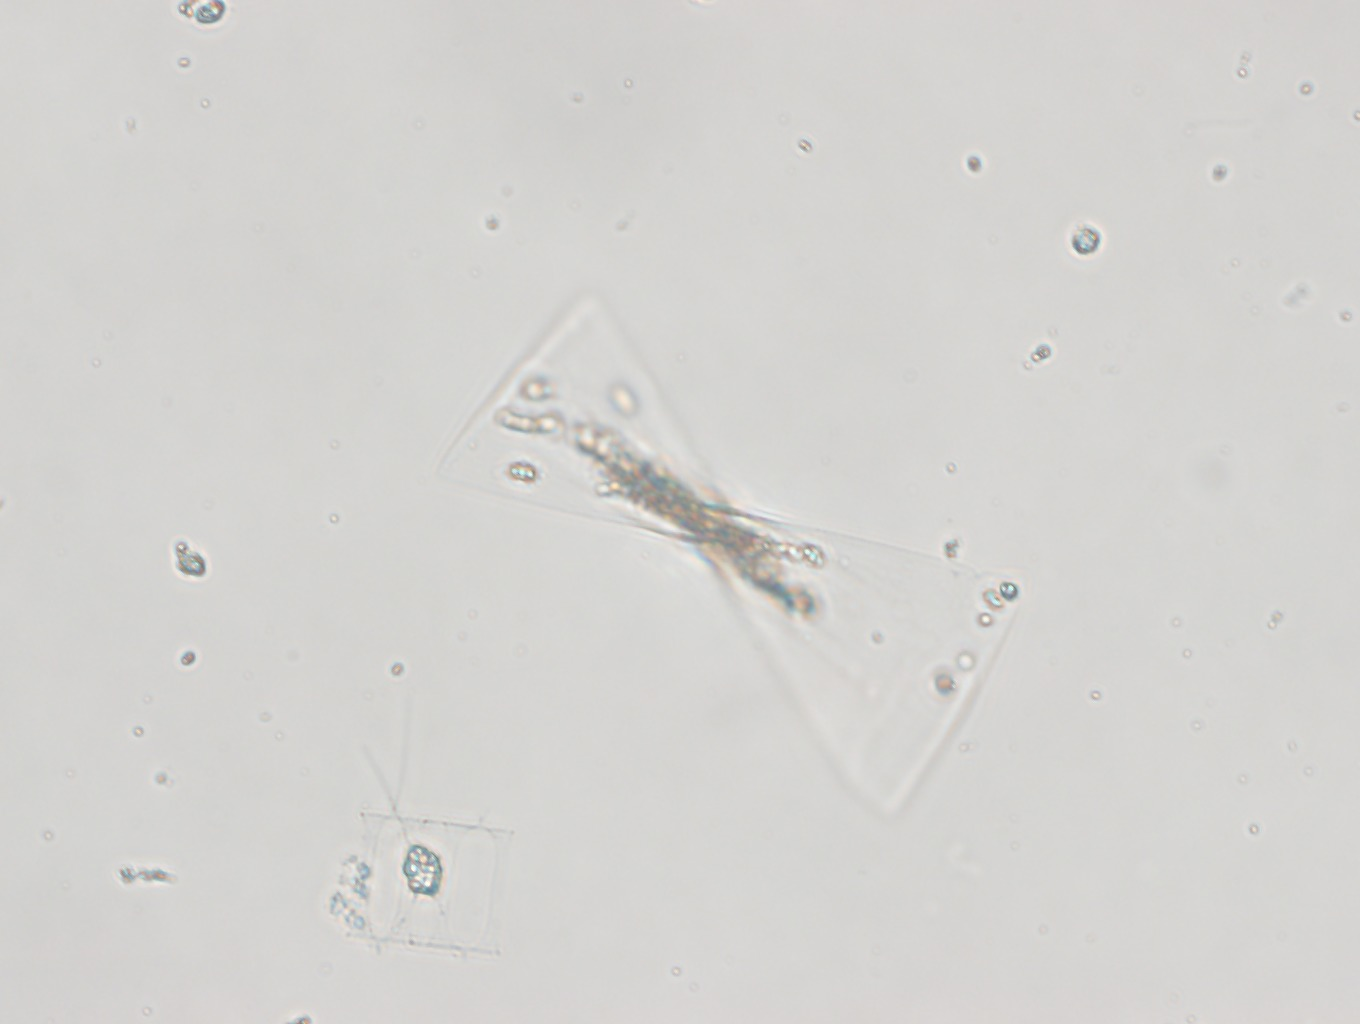chaetoceros: (332, 695, 522, 994)
